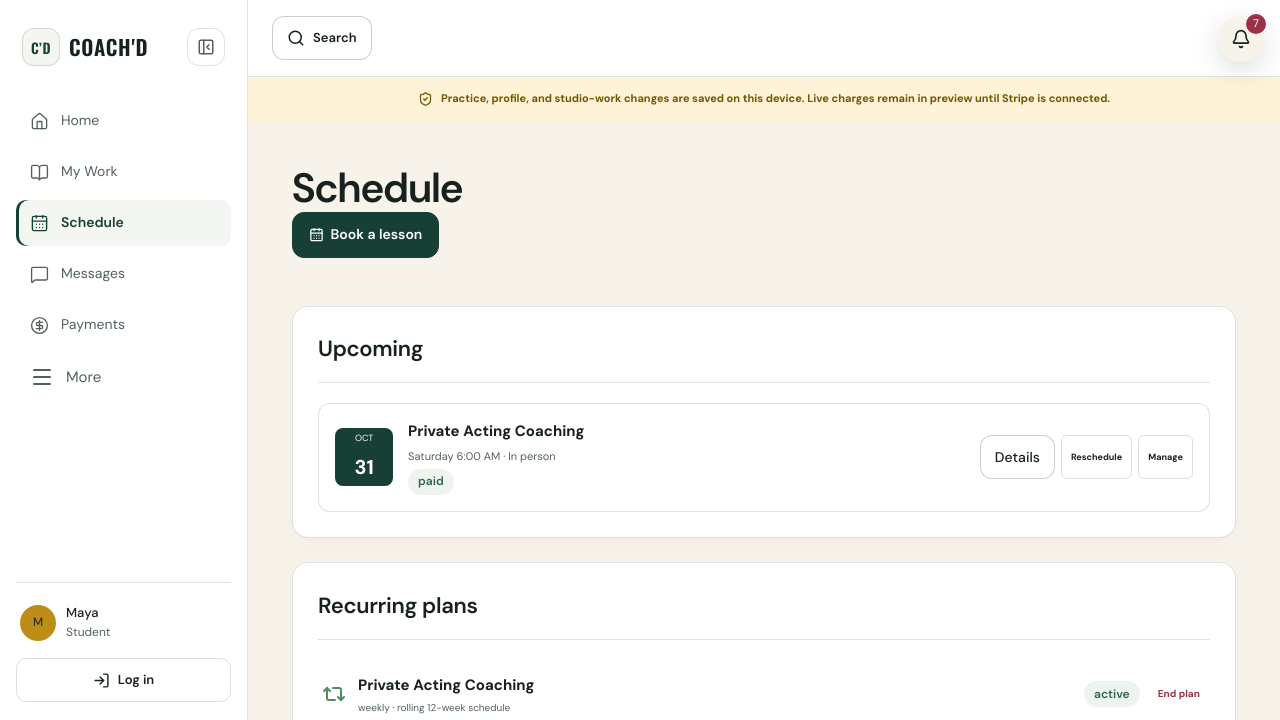
Scenario: interactive booking flows › opens a student booking policy and cancels it
Step 1. Click the button "Manage" → (1166, 457), box [1138,435,1193,479]
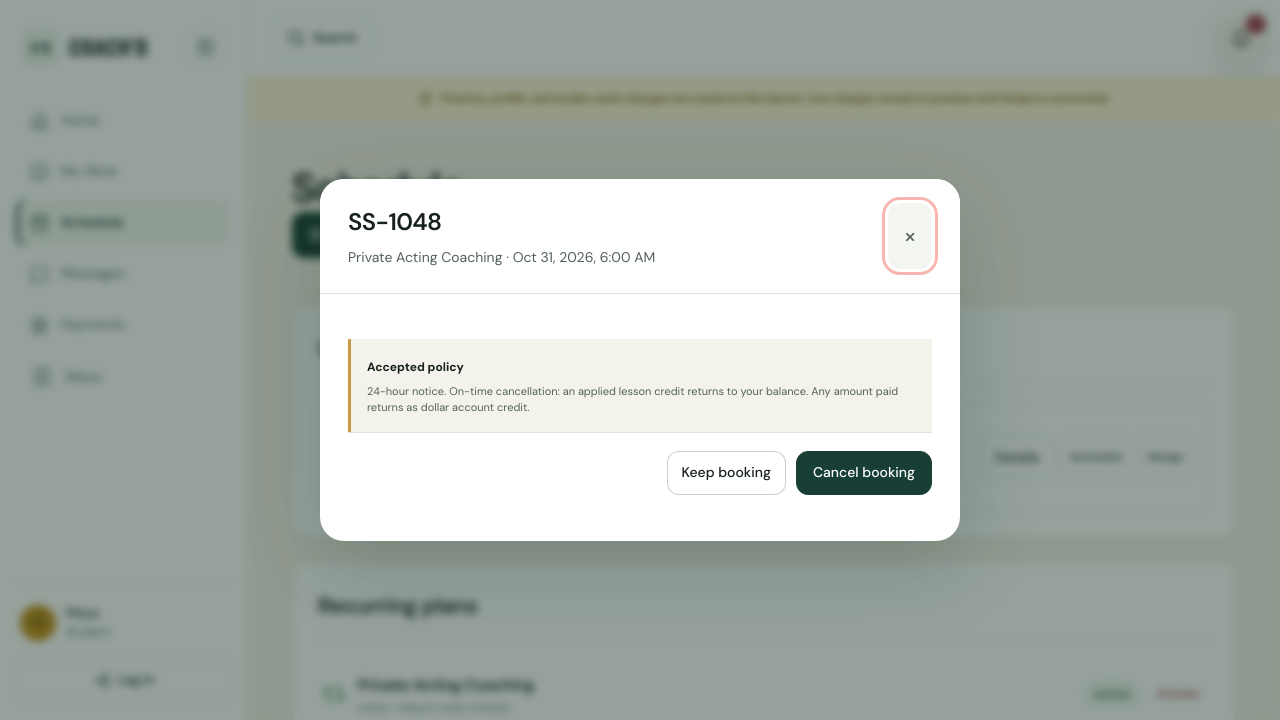
Step 2. Click the button "Cancel booking" → (864, 473), box [796,451,932,495]
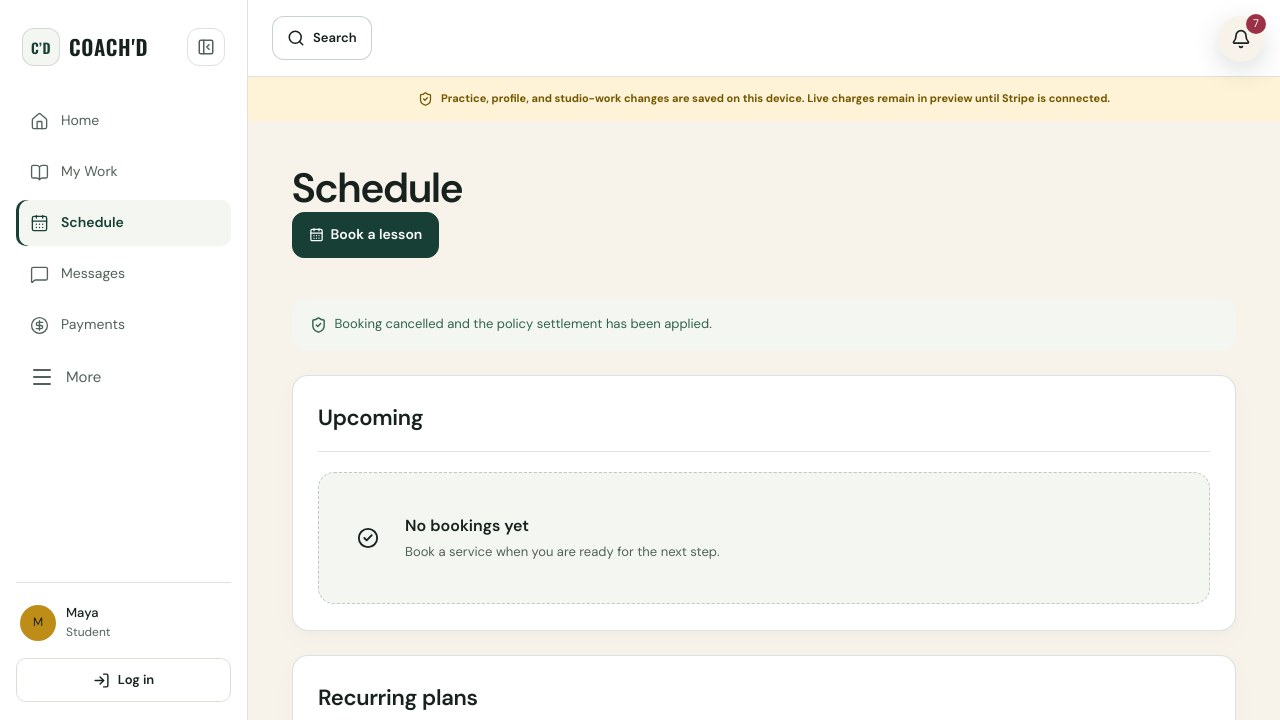
Now the text "Booking cancelled and the policy settlement has been applied." is shown, box [292,299,1236,351]
